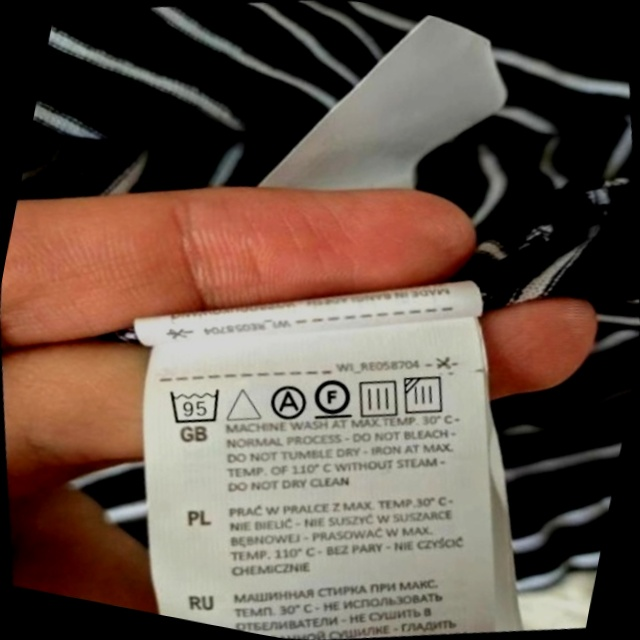95C: (160, 375, 232, 436)
bleach: (218, 376, 269, 431)
drip_dry: (348, 368, 409, 427)
drip_dry_in_shade: (395, 364, 457, 426)
dry_clean: (261, 376, 314, 428)
dry_clean_petrol_only: (305, 367, 362, 428)
